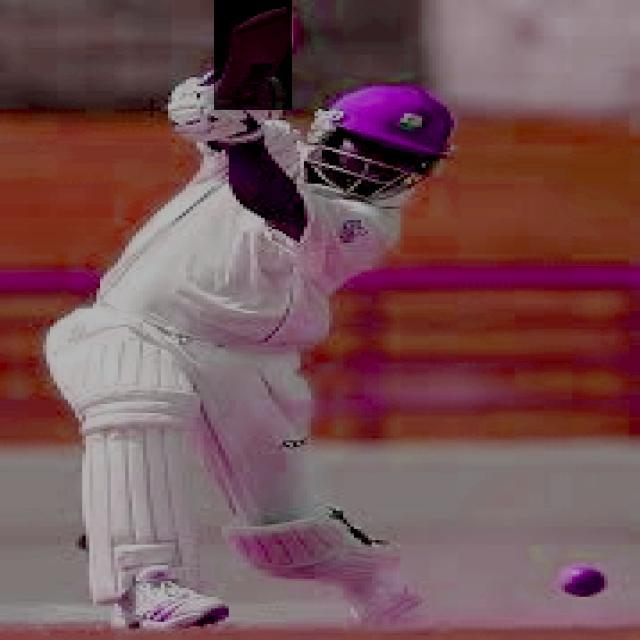bat: (215, 0, 291, 110)
toe: (235, 8, 280, 33)
